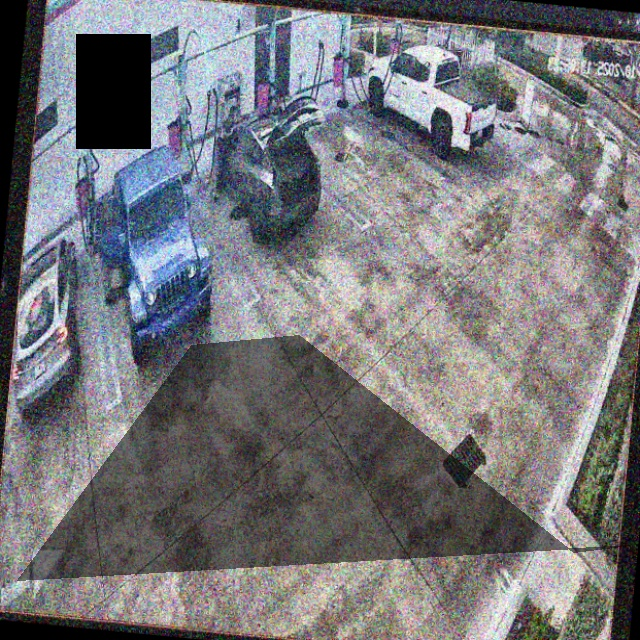Car: (84, 139, 224, 359), (207, 72, 335, 248), (361, 36, 503, 164)
